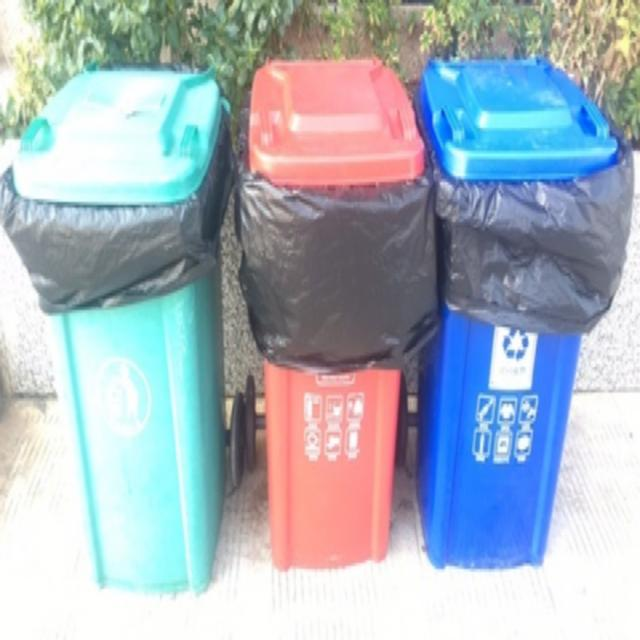ash bin: (13, 60, 238, 597), (418, 54, 616, 563), (245, 49, 424, 564)
